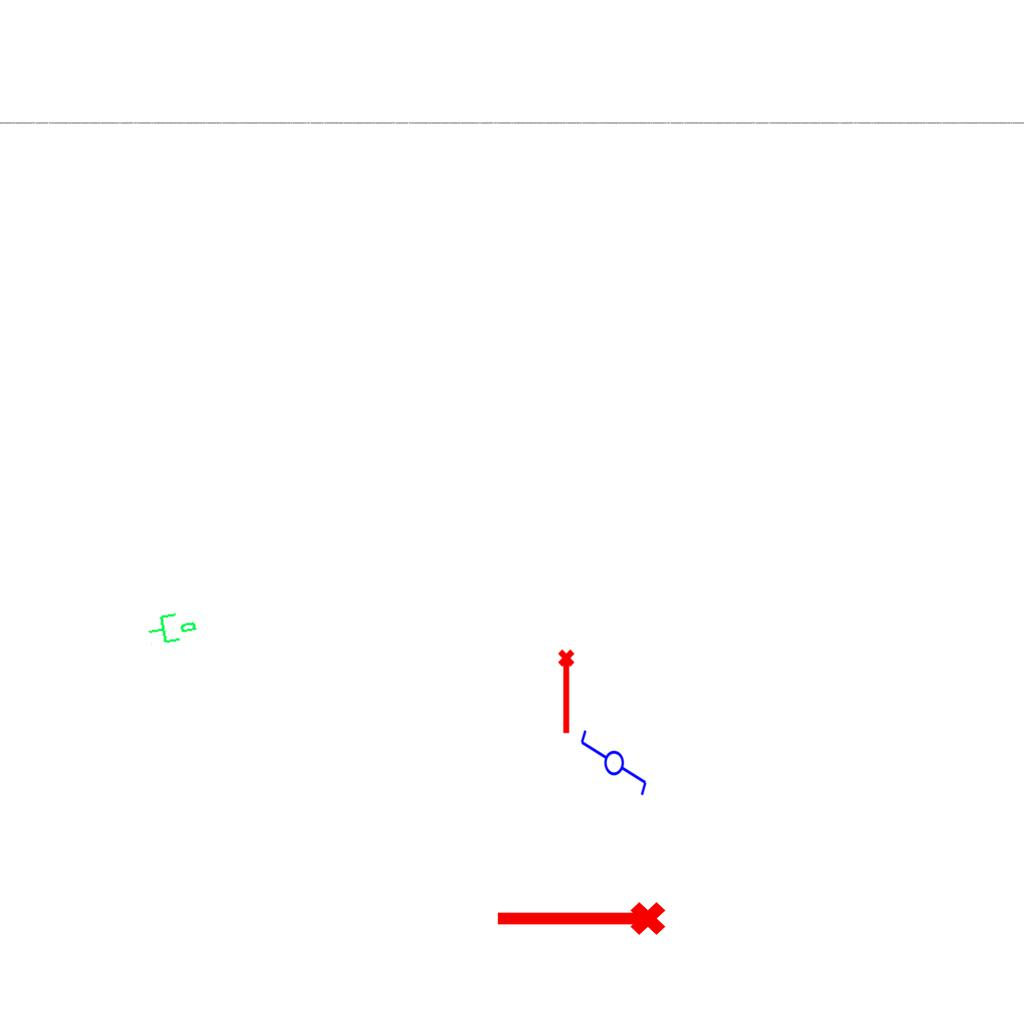ASR_Ansaugoeffnung: (492, 898, 668, 944), (556, 648, 579, 736)
Datenanschluss_einfach: (144, 605, 200, 649)
Wechselschalter: (577, 728, 649, 806)
